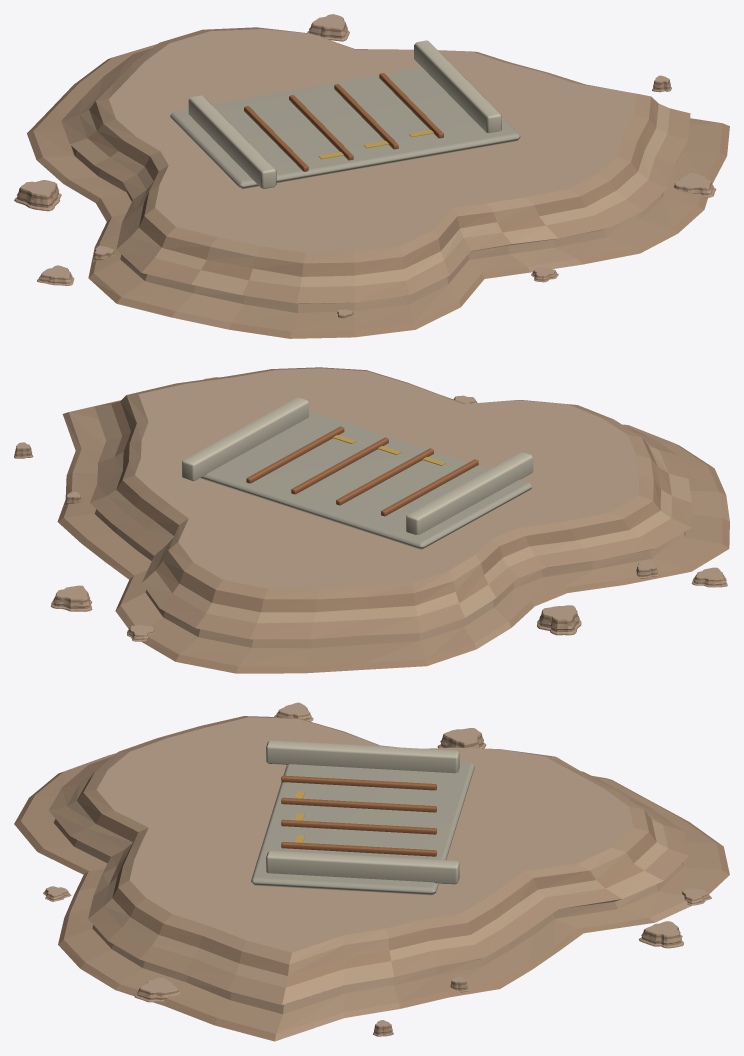
File: SandstoneShelfB.glb
3 renders of one model, top to bottom at view 1: azimuth 30°, elevation 25°; view 2: azimuth 150°, elevation 25°; view 3: azimuth 270°, elevation 25°, orthographic.
Parts seen in each view (by area): view 1: Quarried low bench, Ruined weigh-house floor, Collapsed portal upright, Collapsed portal upright.001, Detached sandstone fragment.015, Detached sandstone fragment.018, Detached sandstone fragment.020, Exposed floor rail, Exposed floor rail.001, Exposed floor rail.003, Exposed floor rail.002, Detached sandstone fragment.019; view 2: Quarried low bench, Ruined weigh-house floor, Collapsed portal upright.001, Collapsed portal upright, Detached sandstone fragment.015, Detached sandstone fragment.018, Exposed floor rail, Exposed floor rail.003, Exposed floor rail.001, Exposed floor rail.002, Detached sandstone fragment.019; view 3: Quarried low bench, Ruined weigh-house floor, Collapsed portal upright.001, Collapsed portal upright, Exposed floor rail, Exposed floor rail.001, Exposed floor rail.002, Exposed floor rail.003, Detached sandstone fragment.018, Detached sandstone fragment.015, Detached sandstone fragment.020.
Part boxes in pixels (x1=…): Quarried low bench: x1=27, y1=27, x2=729, y2=338; Ruined weigh-house floor: x1=170, y1=67, x2=520, y2=189; Collapsed portal upright: x1=188, y1=95, x2=276, y2=189; Collapsed portal upright.001: x1=414, y1=40, x2=501, y2=133; Detached sandstone fragment.015: x1=14, y1=180, x2=61, y2=211; Detached sandstone fragment.018: x1=307, y1=14, x2=349, y2=41; Detached sandstone fragment.020: x1=674, y1=173, x2=716, y2=197; Exposed floor rail: x1=244, y1=106, x2=308, y2=171; Exposed floor rail.001: x1=289, y1=95, x2=353, y2=160; Exposed floor rail.003: x1=379, y1=73, x2=443, y2=138; Exposed floor rail.002: x1=334, y1=84, x2=398, y2=149; Detached sandstone fragment.019: x1=37, y1=265, x2=74, y2=285; Quarried low bench: x1=57, y1=367, x2=729, y2=673; Ruined weigh-house floor: x1=200, y1=411, x2=531, y2=549; Collapsed portal upright.001: x1=182, y1=397, x2=308, y2=481; Collapsed portal upright: x1=406, y1=452, x2=533, y2=534; Detached sandstone fragment.015: x1=537, y1=605, x2=581, y2=635; Detached sandstone fragment.018: x1=51, y1=585, x2=92, y2=611; Exposed floor rail: x1=381, y1=459, x2=478, y2=516; Exposed floor rail.003: x1=246, y1=426, x2=344, y2=483; Exposed floor rail.001: x1=336, y1=448, x2=433, y2=505; Exposed floor rail.002: x1=291, y1=437, x2=388, y2=494; Detached sandstone fragment.019: x1=691, y1=567, x2=727, y2=587; Quarried low bench: x1=14, y1=716, x2=729, y2=1041; Ruined weigh-house floor: x1=251, y1=761, x2=474, y2=895; Collapsed portal upright.001: x1=266, y1=850, x2=459, y2=884; Collapsed portal upright: x1=266, y1=740, x2=459, y2=773; Exposed floor rail: x1=281, y1=775, x2=436, y2=790; Exposed floor rail.001: x1=281, y1=797, x2=436, y2=812; Exposed floor rail.002: x1=281, y1=819, x2=436, y2=834; Exposed floor rail.003: x1=281, y1=841, x2=436, y2=856; Detached sandstone fragment.018: x1=639, y1=921, x2=683, y2=948; Detached sandstone fragment.015: x1=437, y1=728, x2=486, y2=748; Detached sandstone fragment.020: x1=134, y1=977, x2=179, y2=1002.
Size of the model in its own units: 10.57 by 1.06 by 9.6.
